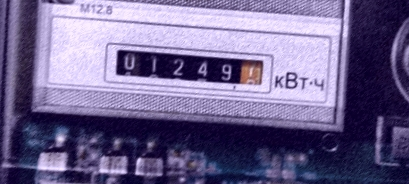0: (122, 49, 137, 71)
1: (147, 52, 159, 72)
2: (170, 55, 186, 77)
4: (195, 57, 209, 77)
7: (244, 58, 258, 78)
9: (218, 60, 233, 82)
screen: (94, 33, 274, 99)
